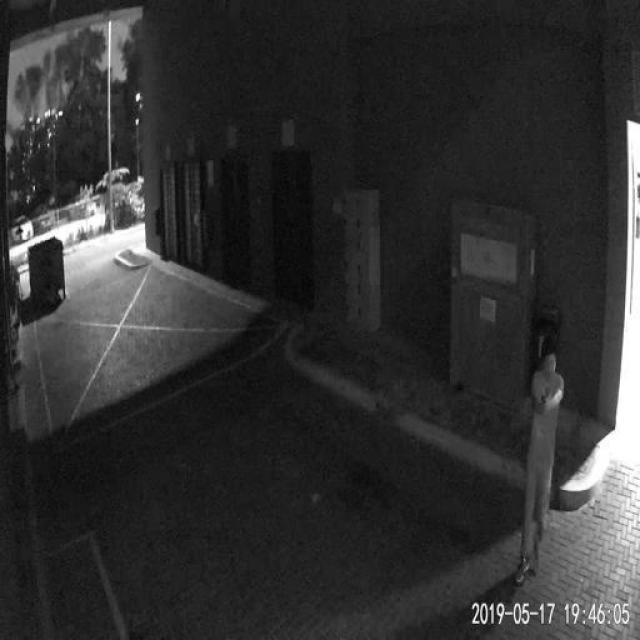weapon: (537, 392, 549, 408)
